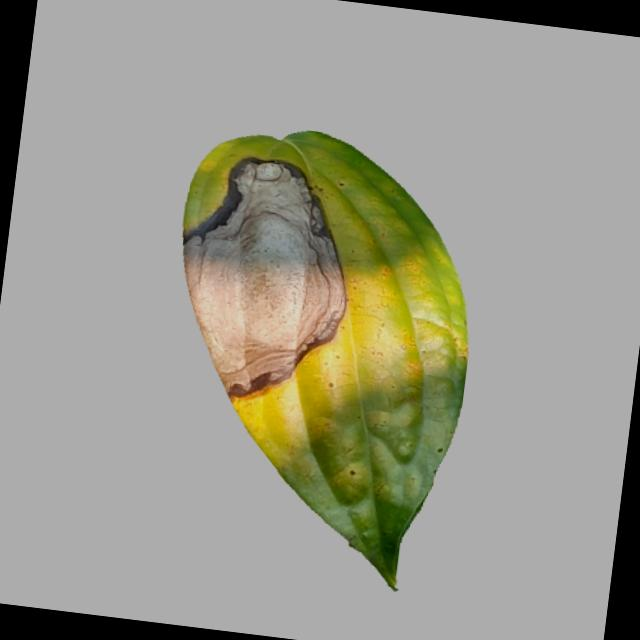leaf-blight: (133, 122, 504, 599)
